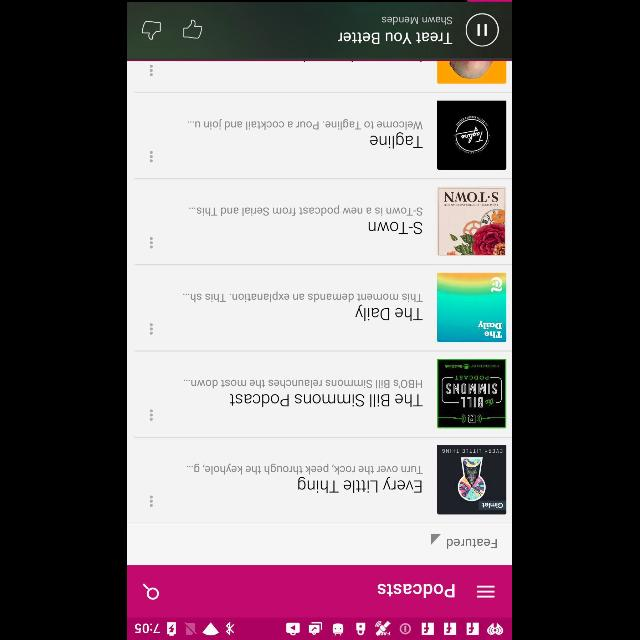icon: (144, 582, 160, 600), (477, 584, 495, 598), (432, 534, 442, 544), (150, 65, 154, 77), (150, 151, 154, 163), (150, 237, 154, 249), (150, 323, 154, 335), (150, 409, 154, 421), (150, 495, 154, 507)
image: (438, 100, 508, 170), (438, 272, 508, 342), (438, 358, 507, 428), (438, 446, 508, 514), (439, 187, 506, 255), (438, 61, 508, 83), (466, 14, 499, 46), (142, 20, 162, 40), (184, 20, 203, 38)
spinner: (432, 534, 498, 548)
text: (188, 118, 424, 130), (189, 206, 423, 217), (183, 292, 423, 302), (187, 464, 423, 474), (231, 394, 424, 406), (299, 476, 423, 494), (184, 379, 423, 388), (338, 32, 454, 44), (356, 304, 424, 322), (378, 584, 456, 598), (371, 132, 424, 150), (383, 16, 453, 26), (369, 222, 423, 234), (448, 538, 498, 548)
toolbar: (128, 565, 512, 617)
uppertaskbar: (128, 617, 512, 639)
